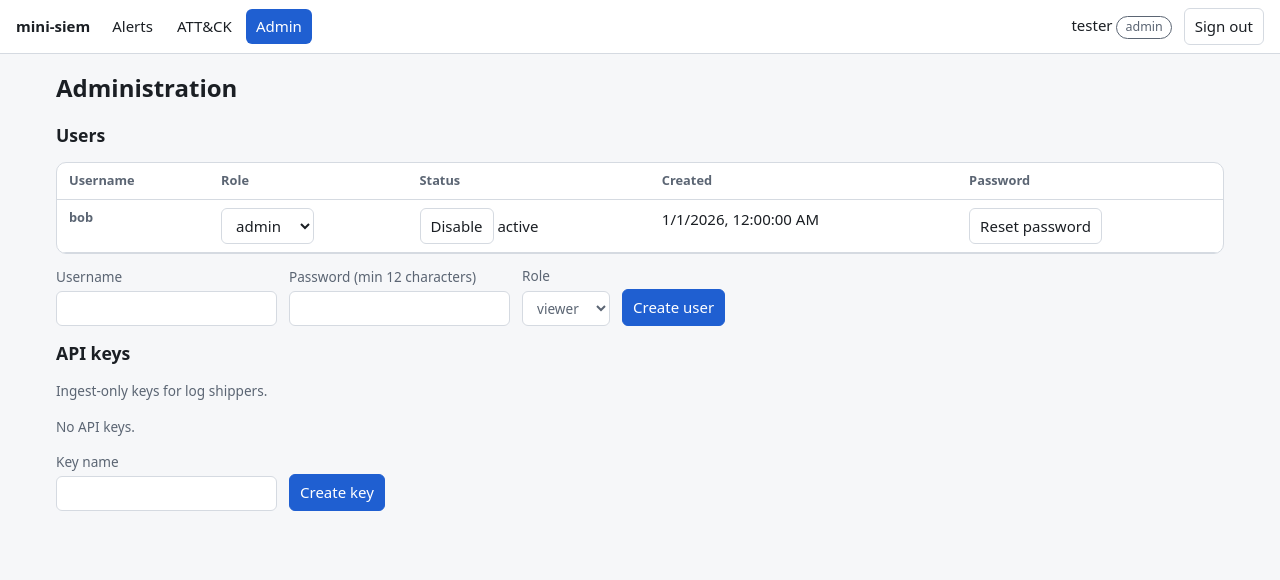
Test case: admin page › lets the admin dismiss a stale update error
This screenshot has width=1280, height=580.
Select "viewer" in the dropdown named "Role for bob": (268, 226) 221,208 -> 314,244
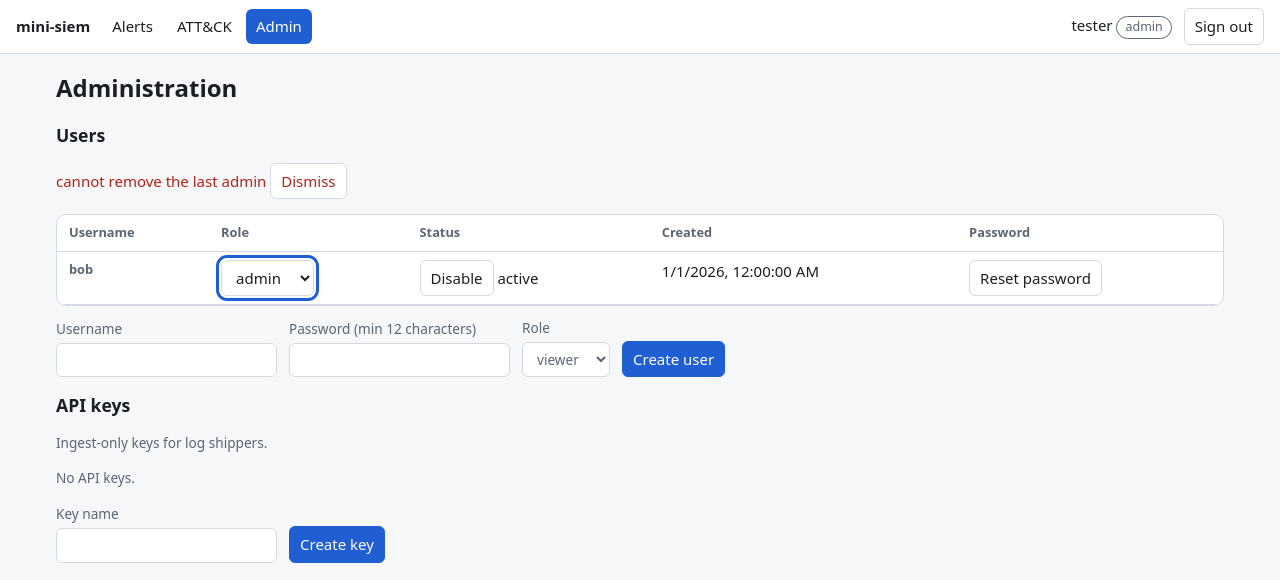
Result: the text "cannot remove the last admin Dismiss" is shown at 56,163 -> 346,199
Click the button "Dismiss": (308, 181) 270,163 -> 346,199
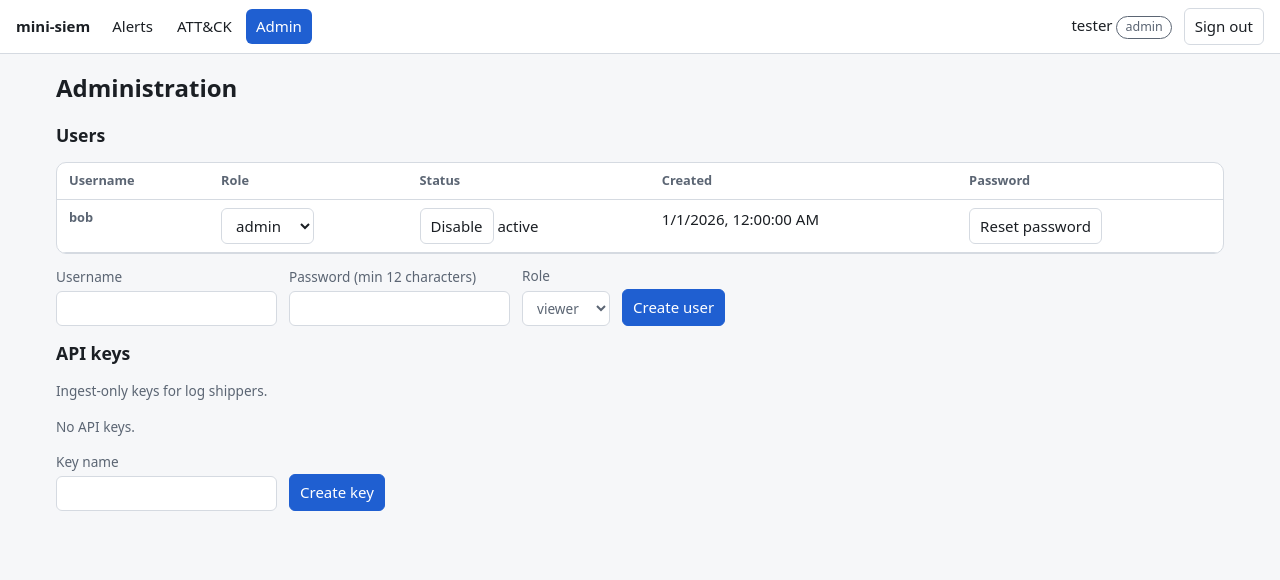
Result: the text "cannot remove the last admin" is gone
